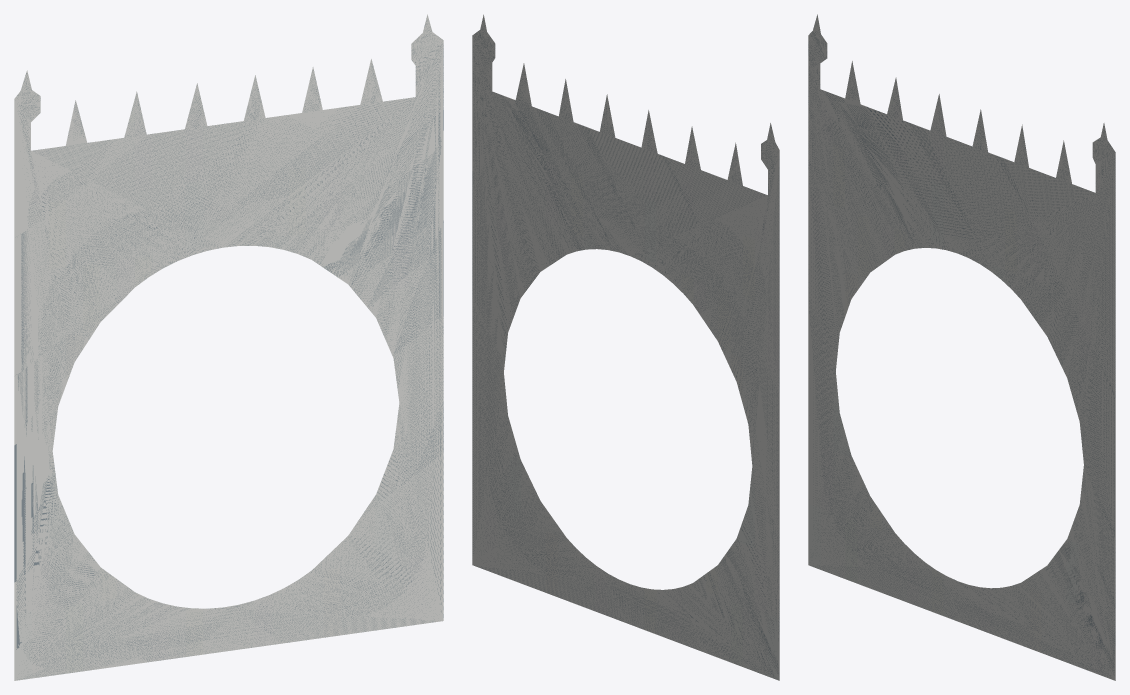
Rendered from 大本钟99.dae.
3 views of the same model, side by side, from view 1: azimuth 30°, elevation 25°; view 2: azimuth 150°, elevation 25°; view 3: azimuth 330°, elevation 25° (orthographic). The views are drawn at different scales.
Parts seen in each view (by area): view 1: SketchUp; view 2: SketchUp; view 3: SketchUp.
Part boxes in pixels (x1,y1,x2,y2): SketchUp: (14,14,443,680); SketchUp: (472,14,779,680); SketchUp: (808,14,1115,680).
Bounding box in the file's own units: 343 × 71.24 × 522.
